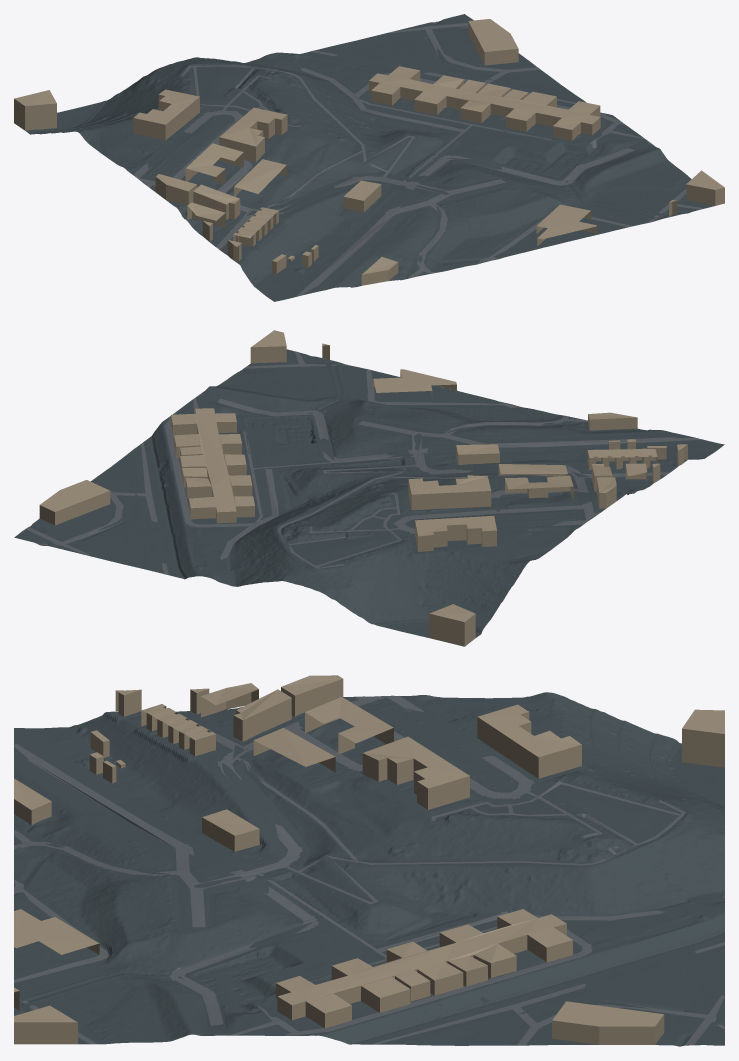
File: epsg26910-1447-10874.lod0.glb
The picture shows the model from 3 angles, top to bottom: view 1: azimuth 30°, elevation 25°; view 2: azimuth 150°, elevation 25°; view 3: azimuth 270°, elevation 25°; orthographic projection. The views are drawn at different scales.
Visible parts, largest first — view 1: epsg26910-1447-10874-lod0; view 2: epsg26910-1447-10874-lod0; view 3: epsg26910-1447-10874-lod0.
Part boxes in pixels (x1=…): epsg26910-1447-10874-lod0: x1=14, y1=14, x2=724, y2=301; epsg26910-1447-10874-lod0: x1=14, y1=330, x2=724, y2=646; epsg26910-1447-10874-lod0: x1=14, y1=675, x2=724, y2=1046.
Bounding box in the file's own units: 384 × 42.75 × 384.
